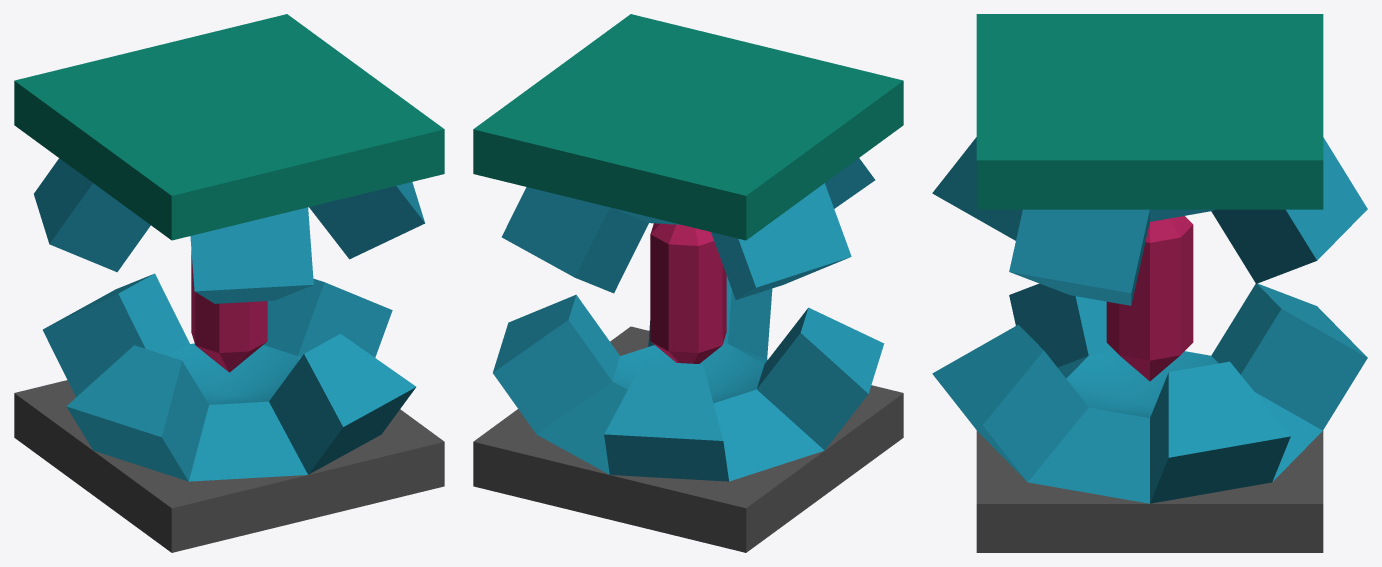
The model's file is crystal_mount.obj.
3 views of the same model, side by side, from view 1: azimuth 30°, elevation 25°; view 2: azimuth 150°, elevation 25°; view 3: azimuth 270°, elevation 25° (orthographic). The views are drawn at different scales.
Visible parts, largest first — view 1: TopMount, BottomGripBase, BottomMount, TopGripBase, Crystal; view 2: TopMount, BottomGripBase, BottomMount, TopGripBase, Crystal; view 3: TopMount, BottomGripBase, BottomMount, TopGripBase, Crystal.
Part boxes in pixels (box(x1,y1,x2,y2)): TopMount: box(14, 14, 444, 240); BottomGripBase: box(43, 273, 416, 481); BottomMount: box(14, 380, 444, 552); TopGripBase: box(34, 158, 425, 303); Crystal: box(191, 251, 267, 372); TopMount: box(473, 14, 903, 240); BottomGripBase: box(493, 276, 884, 481); BottomMount: box(473, 326, 903, 552); TopGripBase: box(502, 158, 875, 299); Crystal: box(650, 223, 726, 363); TopMount: box(976, 14, 1323, 209); BottomGripBase: box(932, 283, 1367, 503); BottomMount: box(976, 430, 1323, 552); TopGripBase: box(932, 137, 1367, 305); Crystal: box(1106, 216, 1193, 381).
Bounding box in the file's own units: 1.01 × 1 × 1.01.
